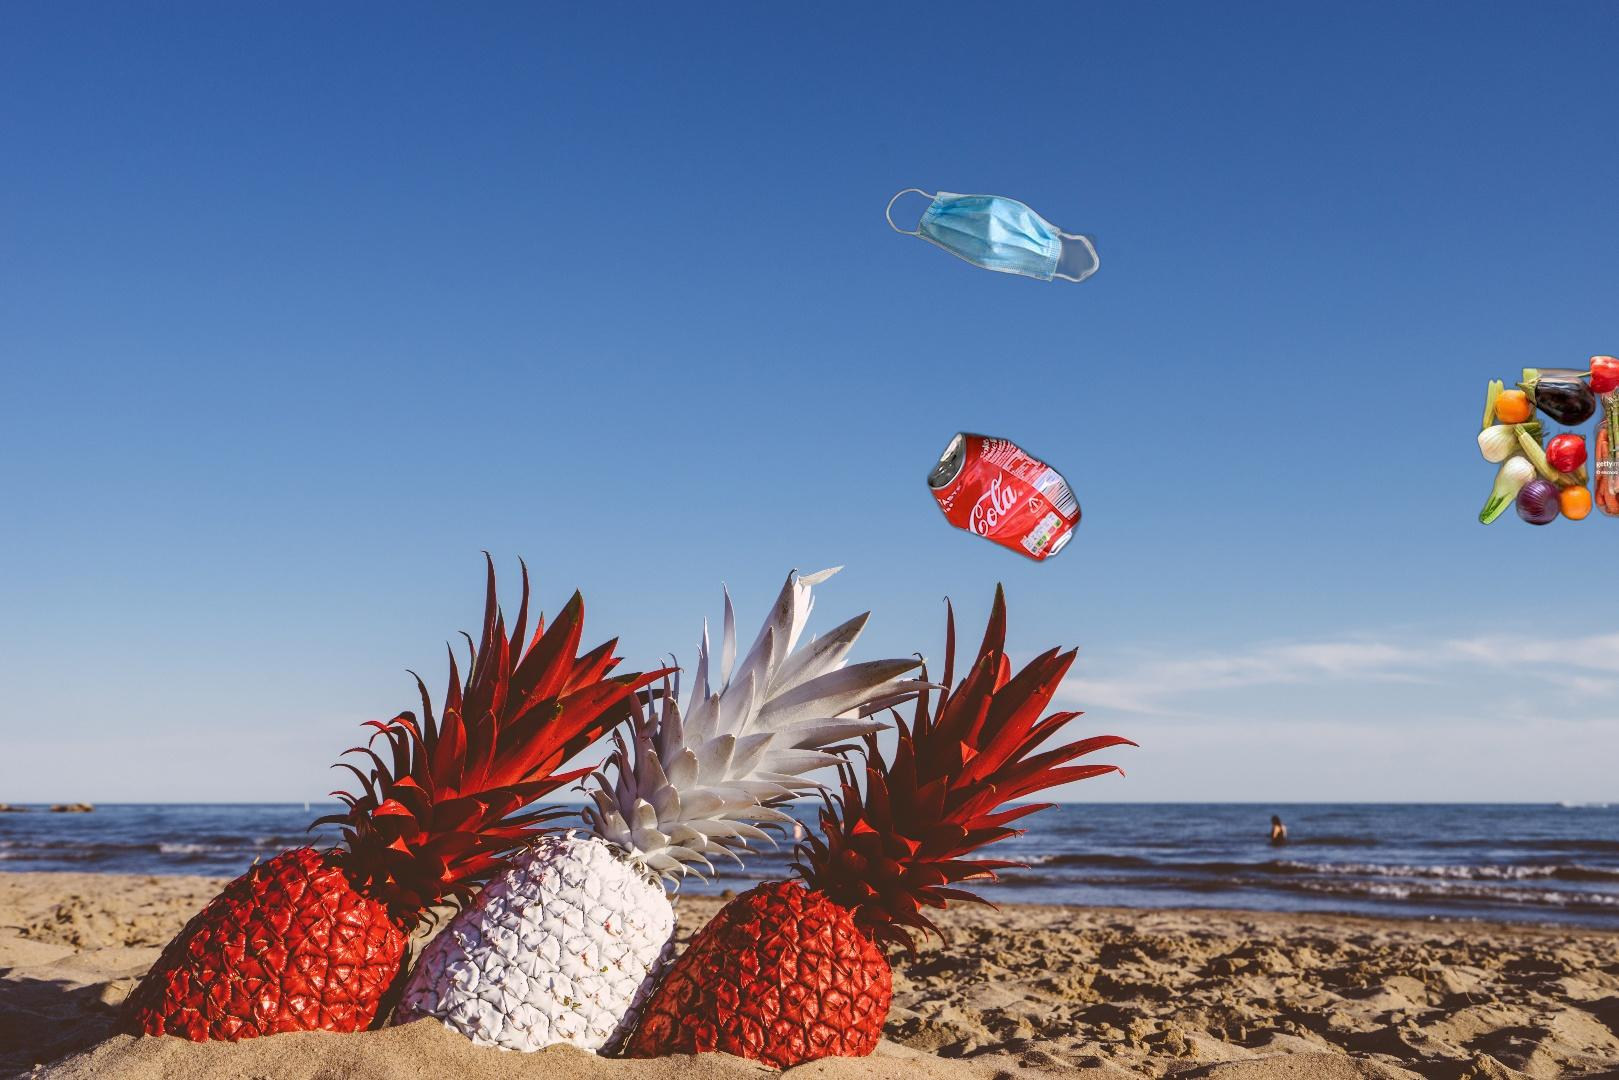biological: (1476, 352, 1619, 528)
metal-cans: (923, 427, 1086, 568)
trash: (882, 184, 1104, 284)
